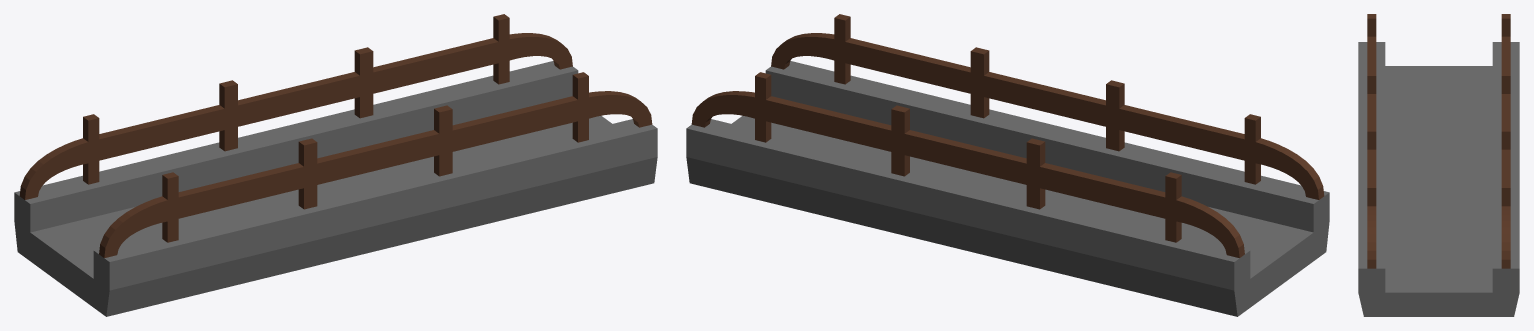
Rendered from bridge_small.glb.
The picture shows the model from 3 angles, left to right: view 1: azimuth 30°, elevation 25°; view 2: azimuth 150°, elevation 25°; view 3: azimuth 270°, elevation 25°; orthographic projection. The views are drawn at different scales.
Visible parts, largest first — view 1: BridgeSmall; view 2: BridgeSmall; view 3: BridgeSmall.
Boxes of the visible parts, box(x1,y1,x2,y2) form: BridgeSmall: box(14, 14, 657, 316); BridgeSmall: box(686, 14, 1329, 316); BridgeSmall: box(1358, 14, 1519, 316).
Size of the model in its own units: 19.91 by 4.21 by 6.
1 material, 1 textured.
